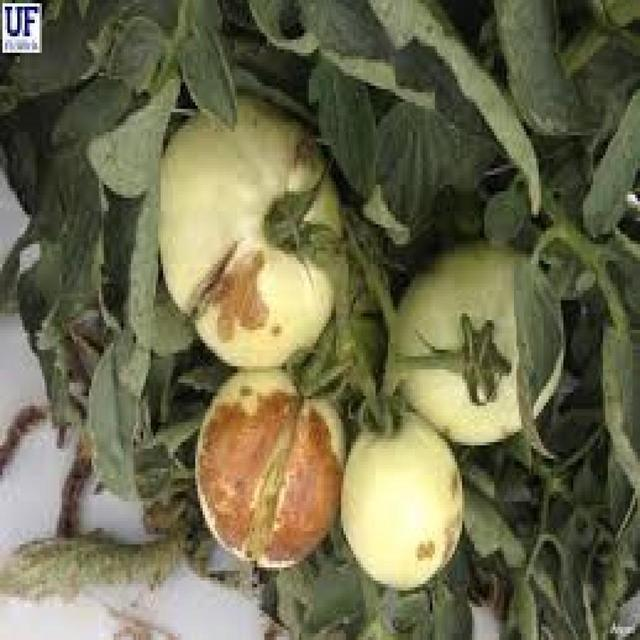Spotted wilt Virus Fruit: (107, 95, 255, 383)
